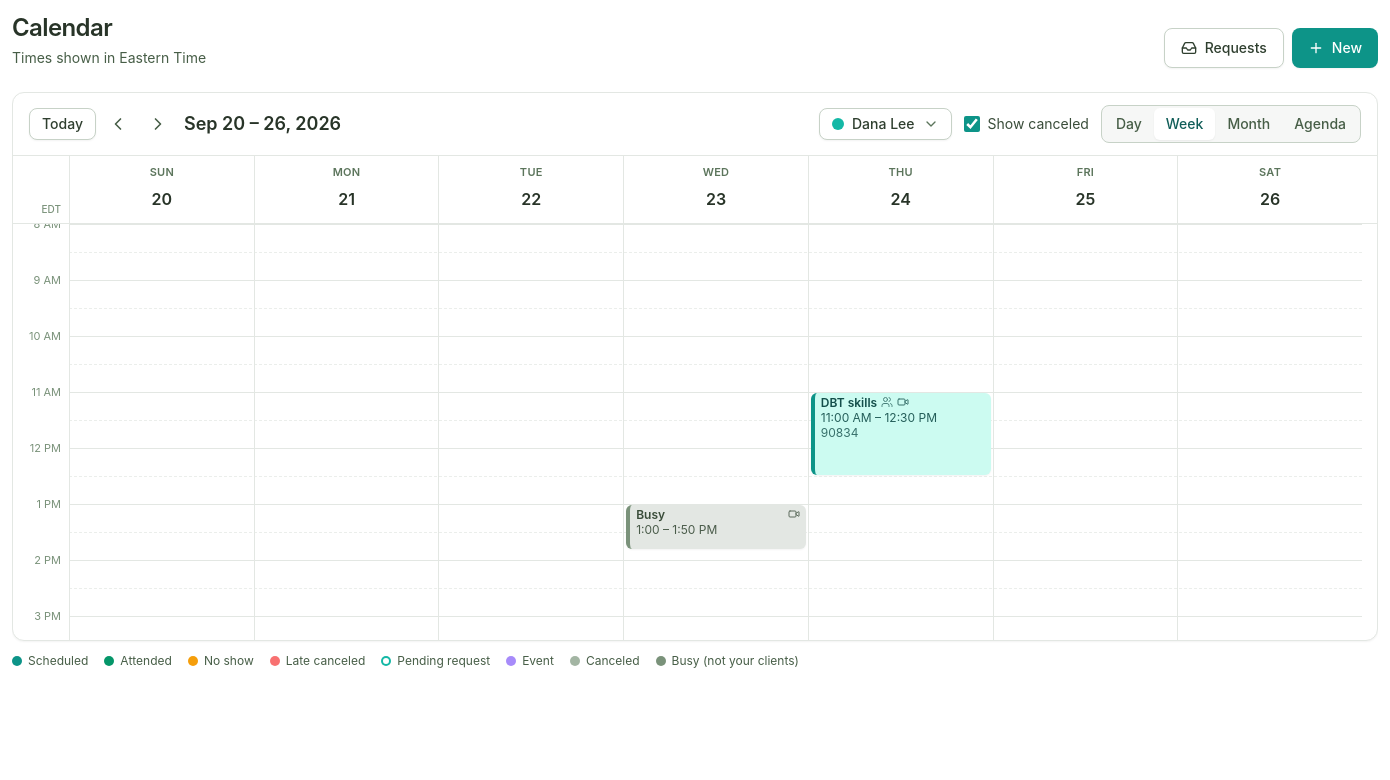
CalendarPage › shows your own calendar first, then whoever you choose, and remembers it
(page scrolled)
What coordinates should you click on to do the following:
click the button with aria-label "Clinicians shown: Dana Lee"
I would click on:
 (885, 124)
Its box is left=819, top=108, right=952, bottom=140.
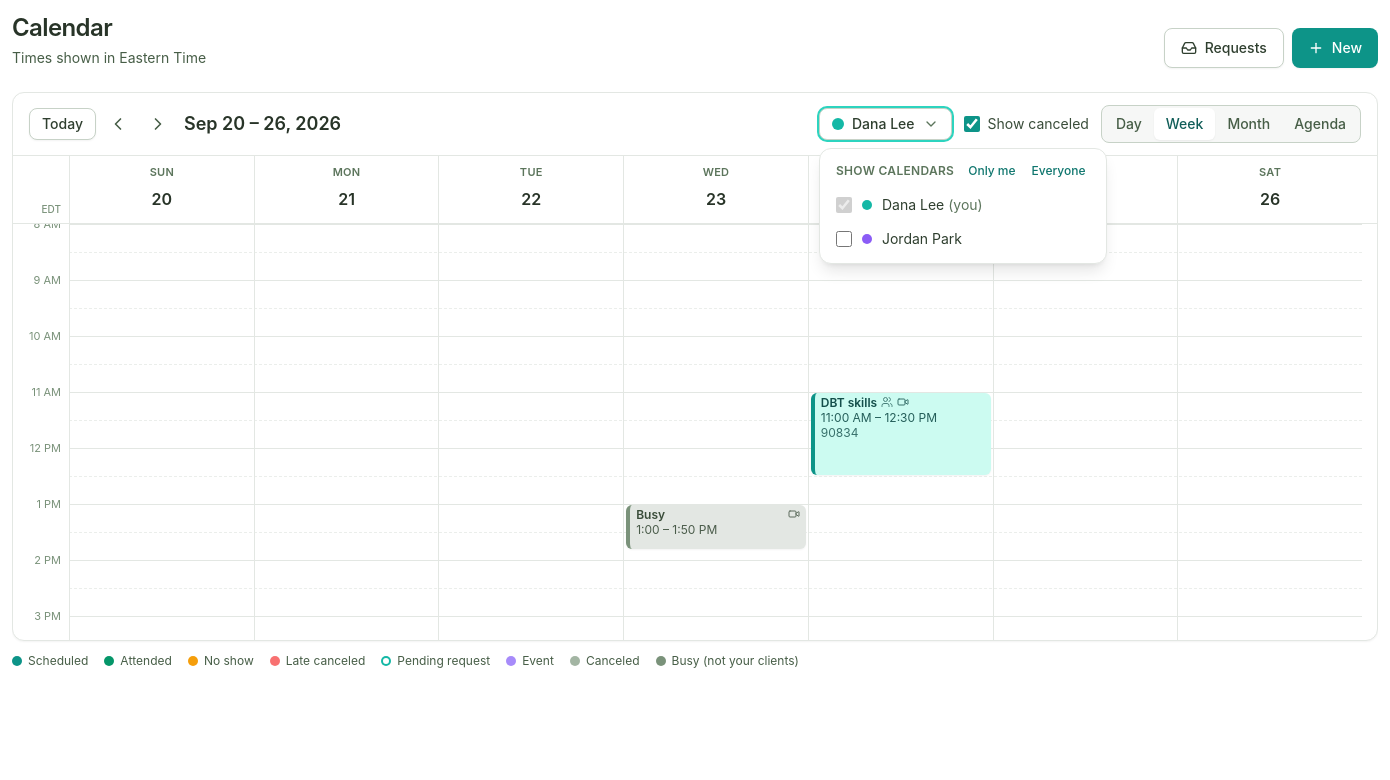
What coordinates should you click on to do the following:
click the button "Everyone"
I would click on:
 (1059, 171)
Its box is left=1026, top=161, right=1092, bottom=181.
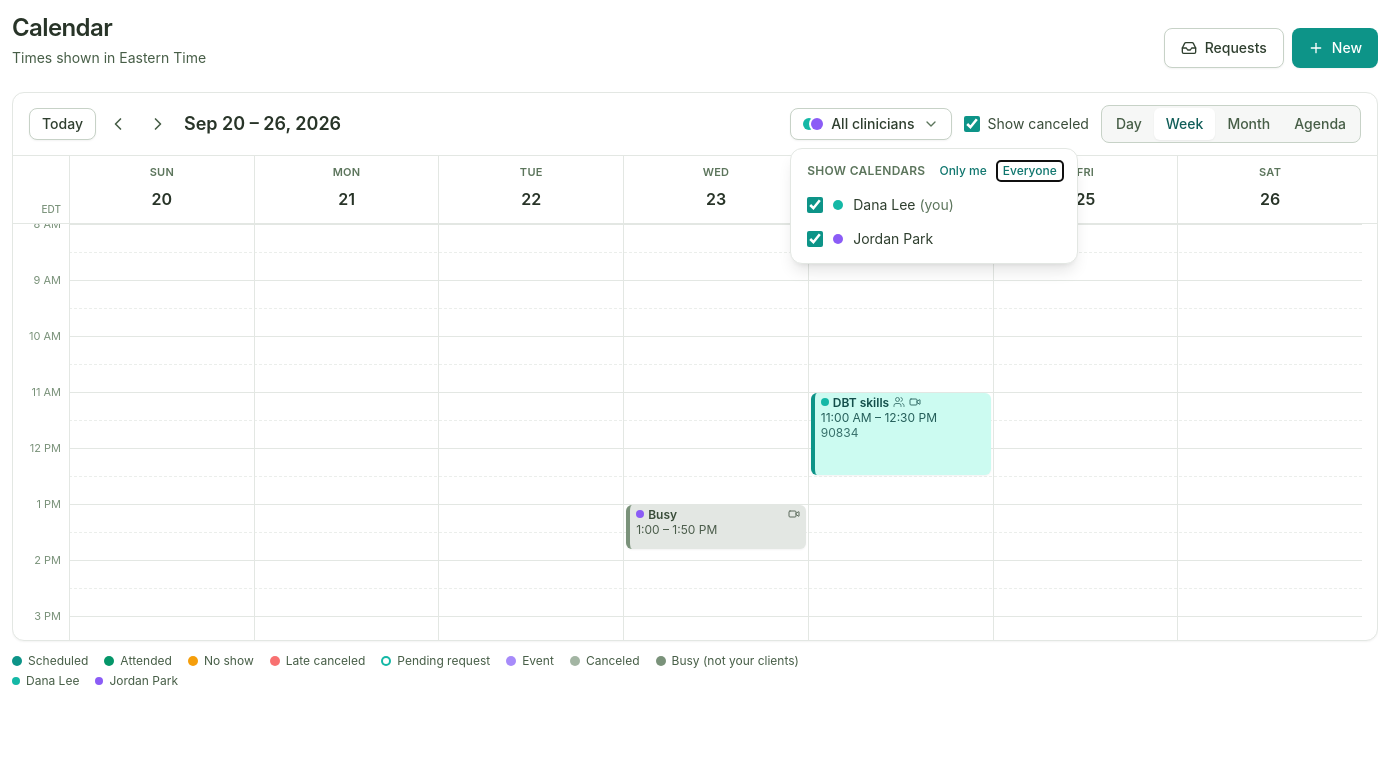
Result: the list item "Jordan Park" below "Scheduled" is shown at left=109, top=672, right=178, bottom=688
Result: the button with aria-label "Clinicians shown: All clinicians" is shown at left=790, top=108, right=952, bottom=140
What coordinates should you click on to do the following:
click the checkbox labelled "Dana Lee (you)"
I would click on:
 (815, 205)
Its box is left=807, top=197, right=823, bottom=213.
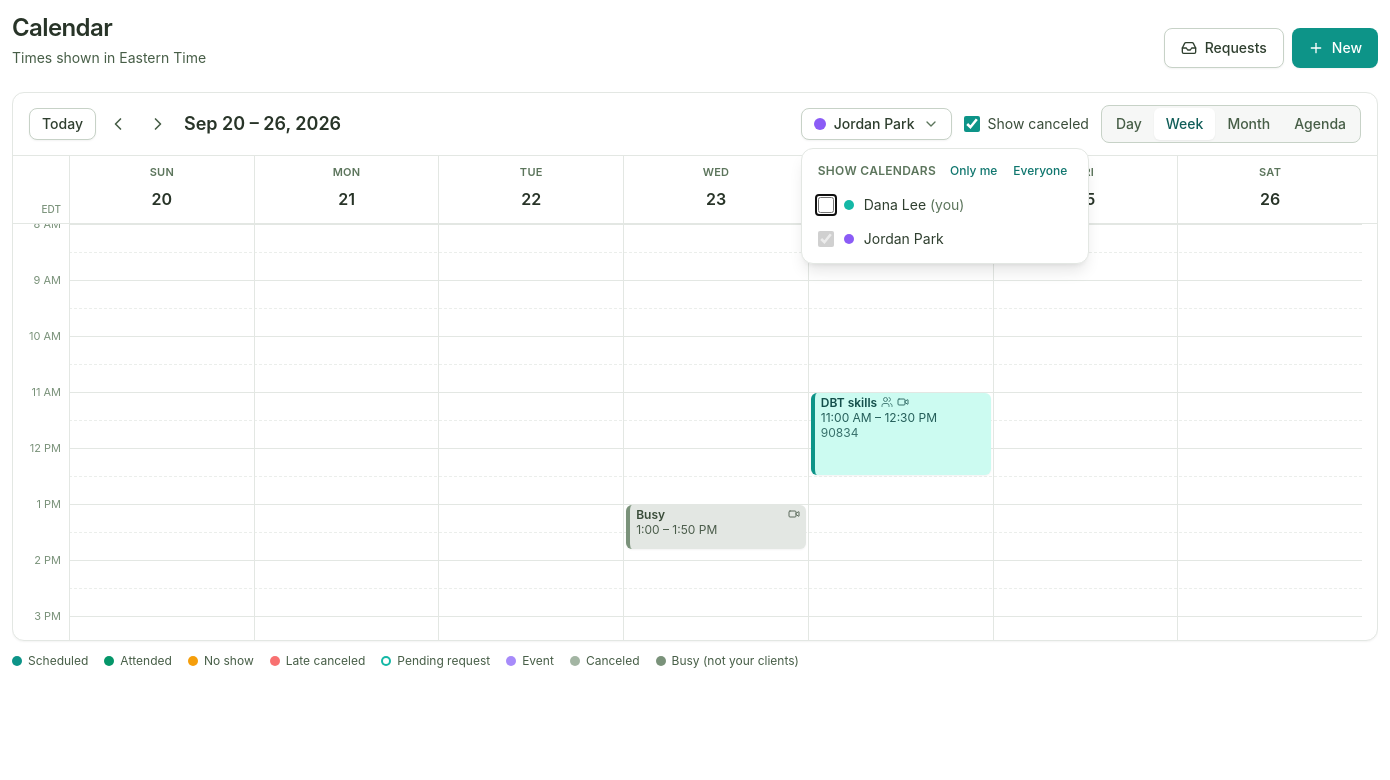
Result: the checkbox labelled "Jordan Park" is disabled at left=818, top=231, right=834, bottom=247
